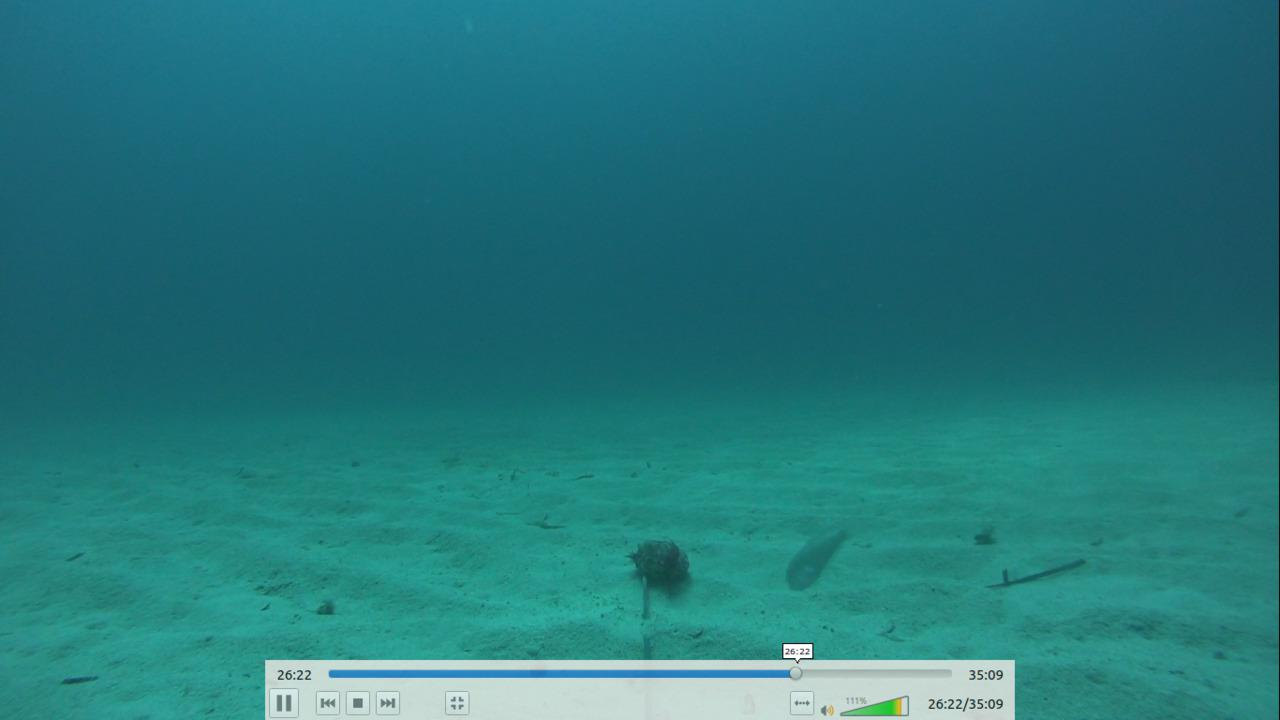raor: (780, 519, 852, 594)
